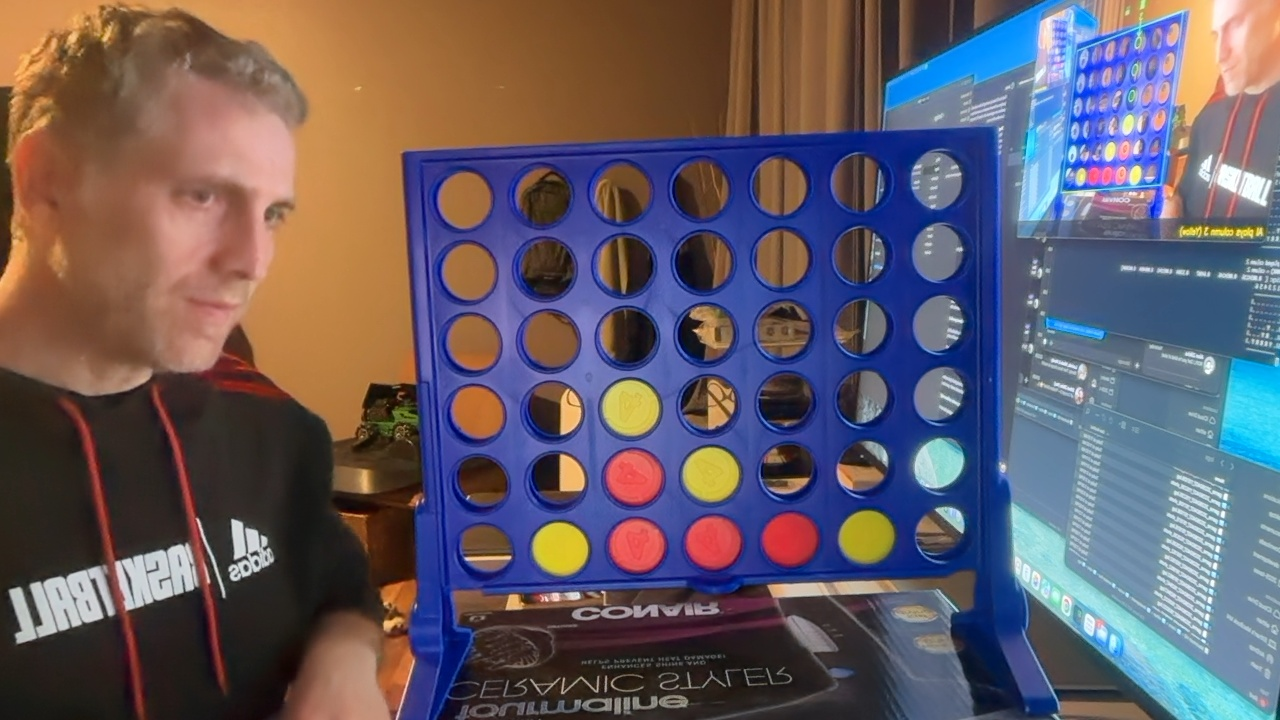red piece: (604, 449, 663, 506), (608, 518, 666, 574), (684, 515, 742, 571), (762, 512, 818, 567)
yellow piece: (600, 379, 660, 436), (681, 446, 741, 502), (531, 521, 589, 576), (838, 510, 895, 564)
